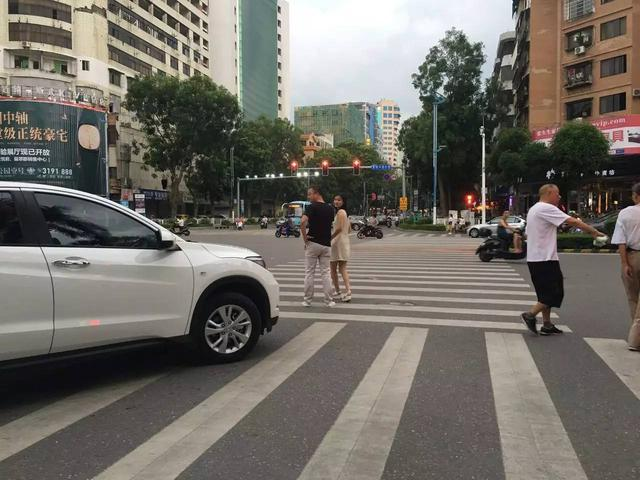car: (1, 181, 282, 372), (467, 215, 526, 238)
motorcycle: (475, 231, 526, 262), (356, 223, 383, 239)
person: (521, 183, 607, 337), (297, 187, 342, 308), (611, 180, 640, 352), (328, 193, 353, 305), (259, 215, 268, 230), (236, 216, 245, 231)
sign: (372, 164, 392, 171), (383, 175, 398, 180)
traffic light: (464, 192, 475, 208), (289, 160, 299, 175), (321, 160, 330, 176), (353, 160, 360, 175)
